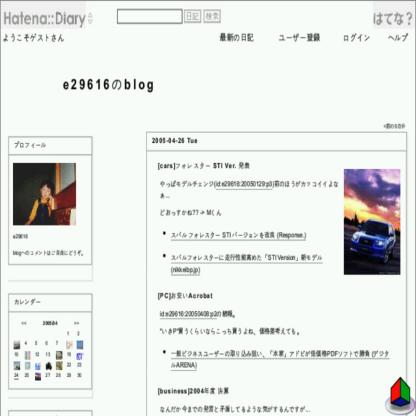Car: (346, 206, 399, 272)
